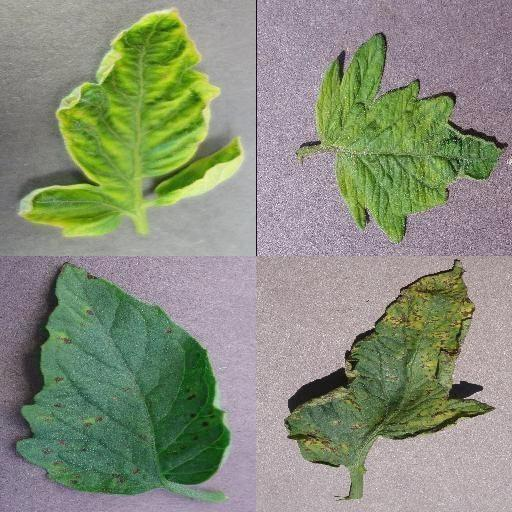Mosaic Virus: (315, 31, 507, 247)
Septoria: (16, 262, 233, 494), (286, 259, 494, 467)
Yellow Leaf Curl Virus: (15, 6, 243, 238)
